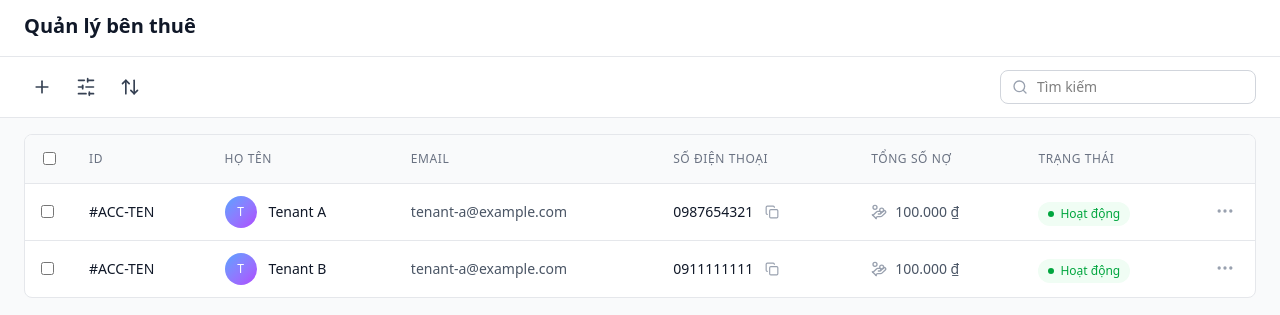
Integration: Admin Tenant Management Flow › selects all tenants on current page
The image size is (1280, 315).
expect the text "Tenant A" is shown: met, box [269, 202, 326, 222]
Step 1. Click the checkbox next to "ID" → point(49, 158), box [42, 152, 56, 165]
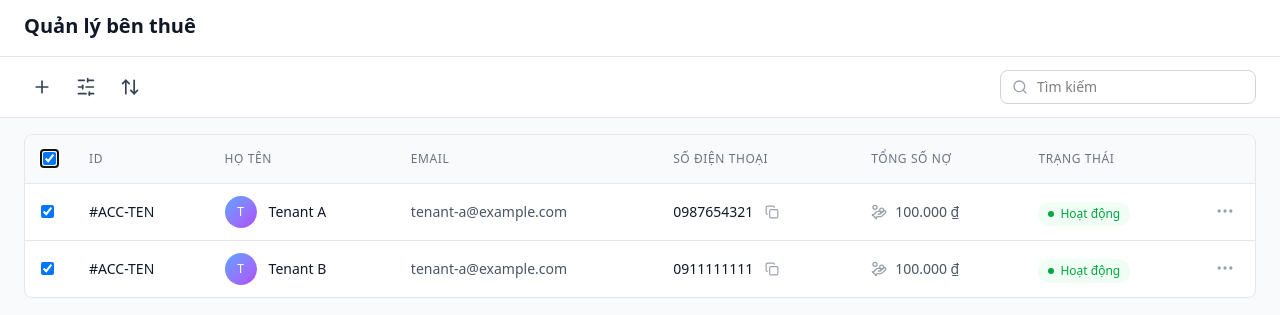
expect the checkbox in the row of "Tenant A" is checked: met, box [41, 205, 54, 218]
expect the checkbox in the row of "Tenant B" is checked: met, box [41, 262, 54, 275]
